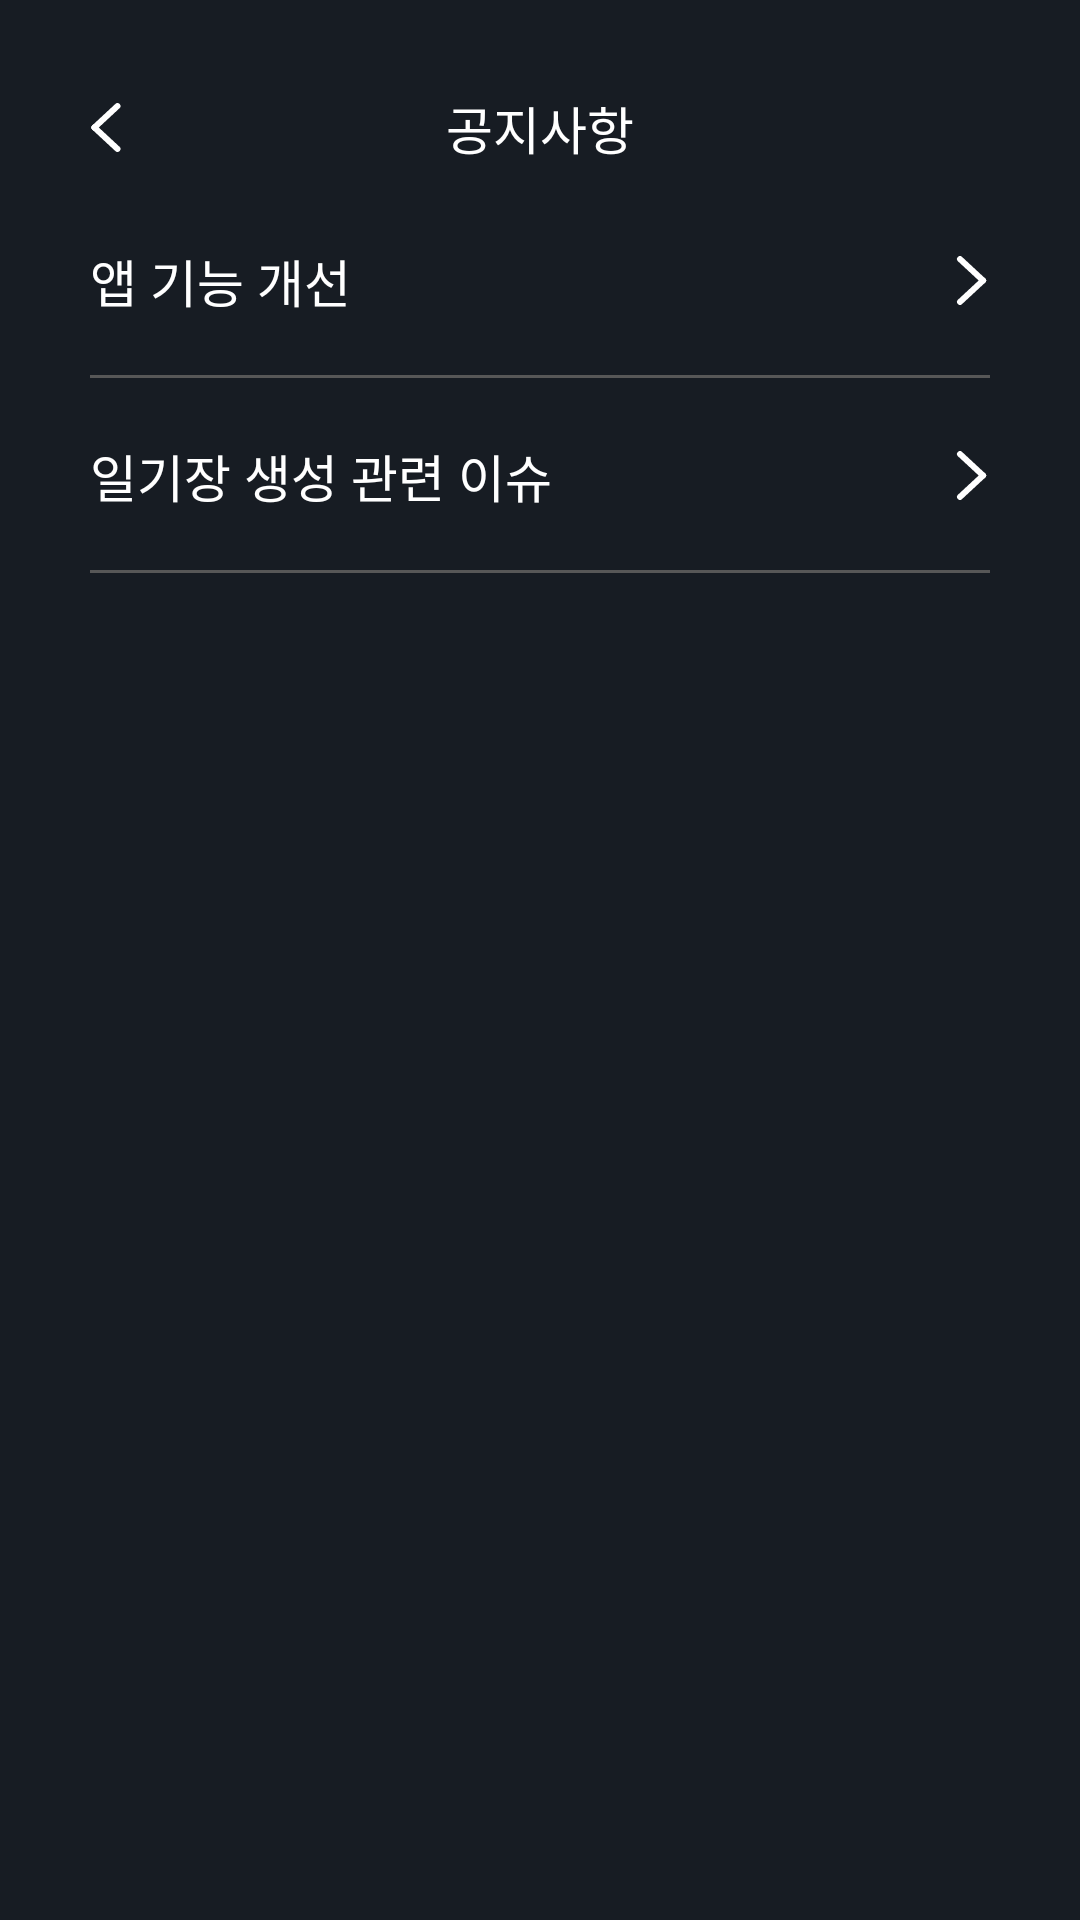

Point at icon controls on the screen. Image size 1080 x 1920, points as (x,y).
back: (106,127)
detail: (972,280), (972,475)
